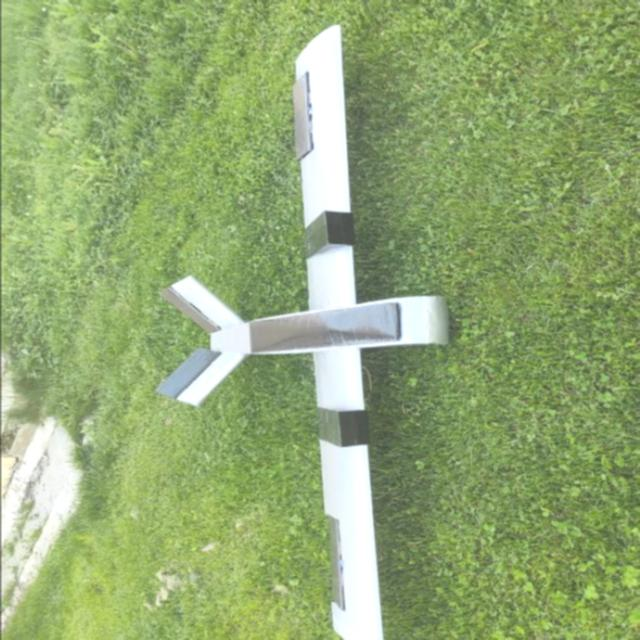plane: (153, 23, 450, 640)
